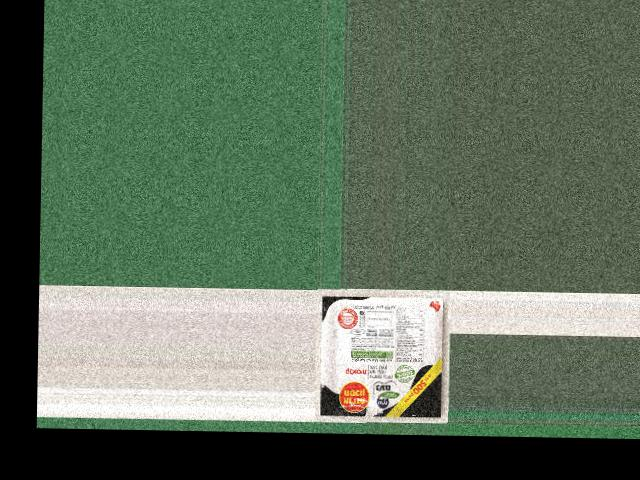cheese: (318, 299, 449, 414)
